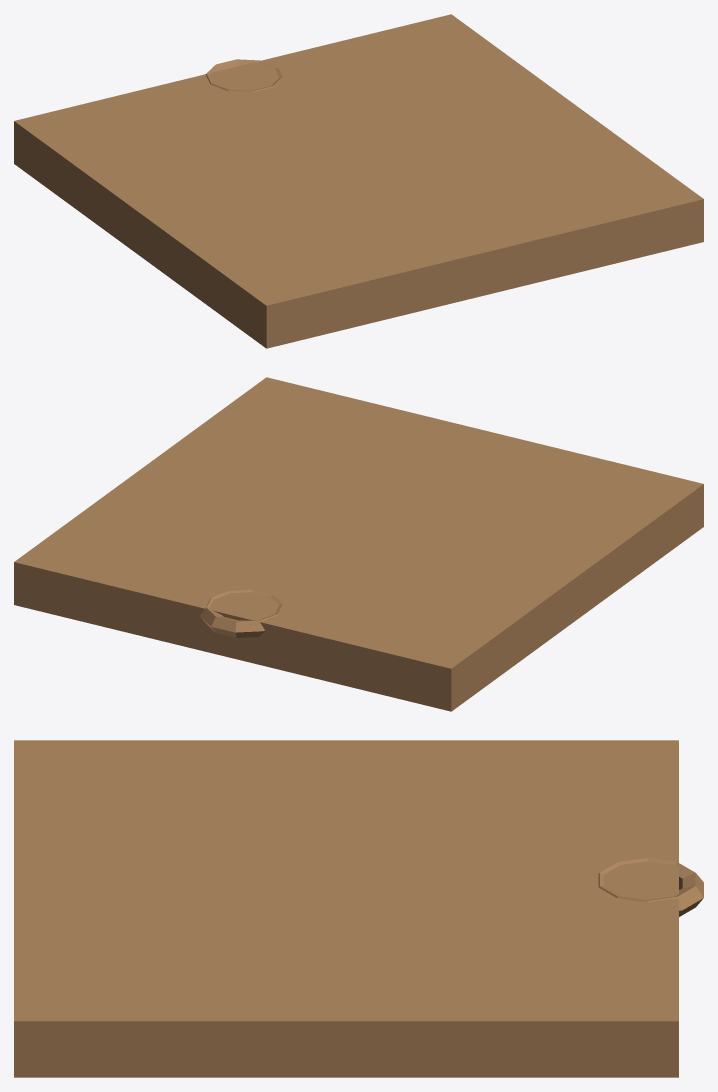
Rendered from cutting_board_whole.glb.
3 views of the same model, one above another, from view 1: azimuth 30°, elevation 25°; view 2: azimuth 150°, elevation 25°; view 3: azimuth 270°, elevation 25° (orthographic). The views are drawn at different scales.
Parts seen in each view (by area): view 1: cutting_board_whole_0; view 2: cutting_board_whole_0; view 3: cutting_board_whole_0.
Boxes of the visible parts, x1,y1,x2,y2 form: cutting_board_whole_0: (14, 14, 703, 348); cutting_board_whole_0: (14, 377, 703, 711); cutting_board_whole_0: (14, 740, 703, 1077).
Size of the model in its own units: 0.64 by 0.0614 by 0.6642.
